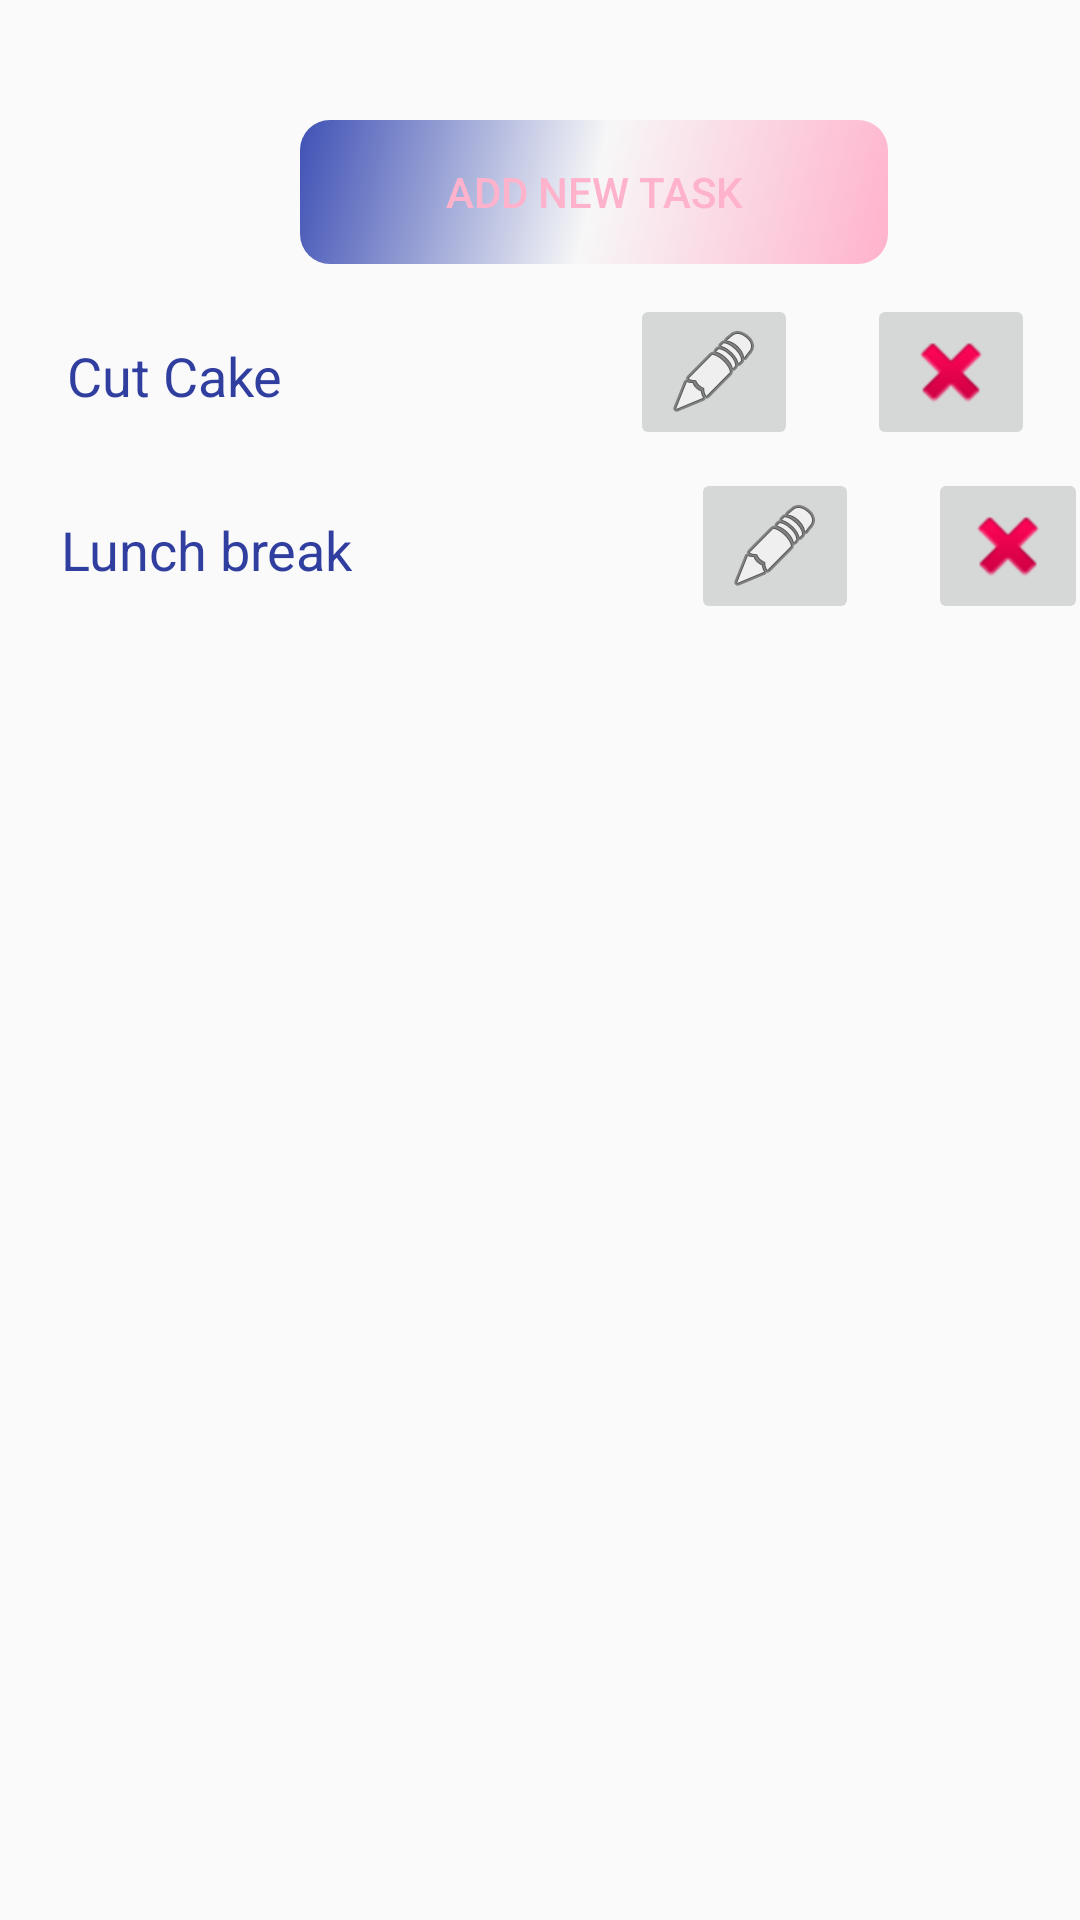

Icons on this 1080*1920 Android screen, each with the point to tap as (x=x, y=y):
delete: (x=951, y=372), (x=1008, y=546)
edit: (x=714, y=372), (x=775, y=546)
